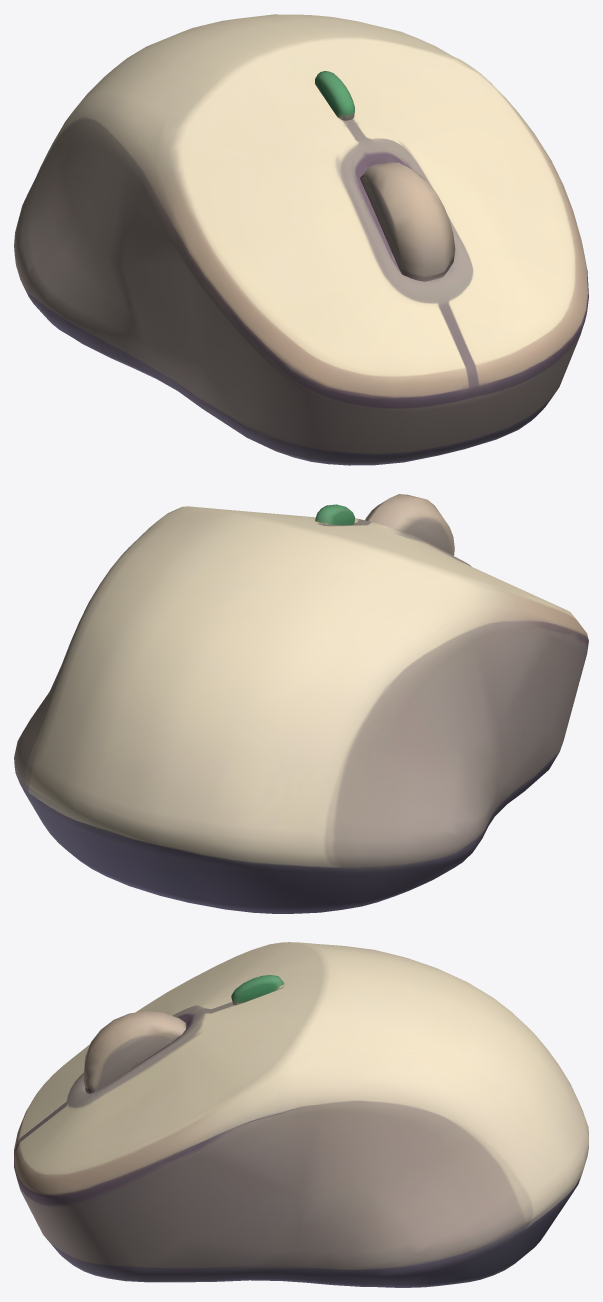
The model's file is mouse.fbx.
3 views of the same model, one above another, from view 1: azimuth 30°, elevation 25°; view 2: azimuth 150°, elevation 25°; view 3: azimuth 270°, elevation 25° (orthographic). The views are drawn at different scales.
Visible parts, largest first — view 1: b9b16820_2659_4051_becf_e2cfac1e221e; view 2: b9b16820_2659_4051_becf_e2cfac1e221e; view 3: b9b16820_2659_4051_becf_e2cfac1e221e.
Boxes of the visible parts, x1,y1,x2,y2 form: b9b16820_2659_4051_becf_e2cfac1e221e: (14, 14, 588, 465); b9b16820_2659_4051_becf_e2cfac1e221e: (14, 494, 588, 913); b9b16820_2659_4051_becf_e2cfac1e221e: (14, 942, 588, 1287).
Size of the model in its own units: 0.7544 by 0.4937 by 0.9995.
